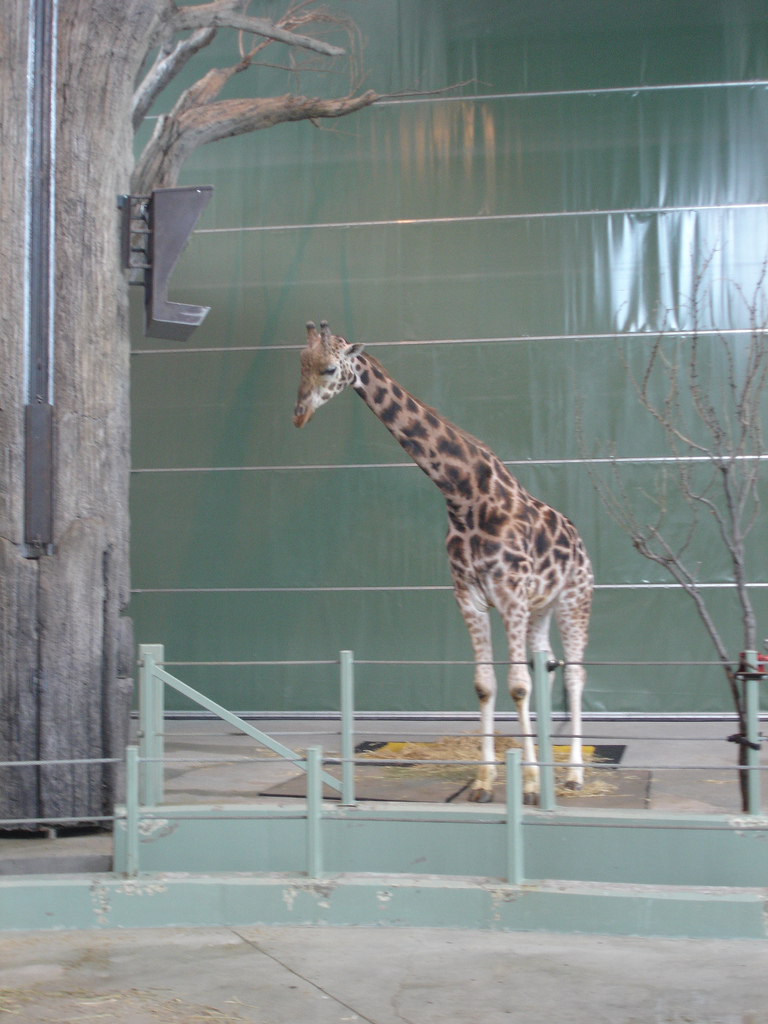giraffe: (274, 310, 621, 845)
